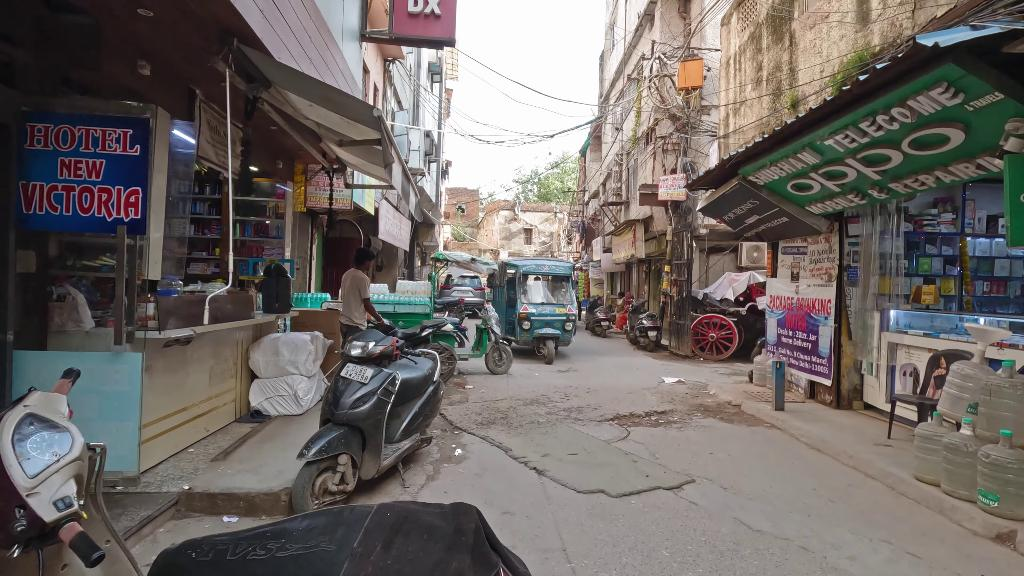garbage: (661, 373, 687, 388)
